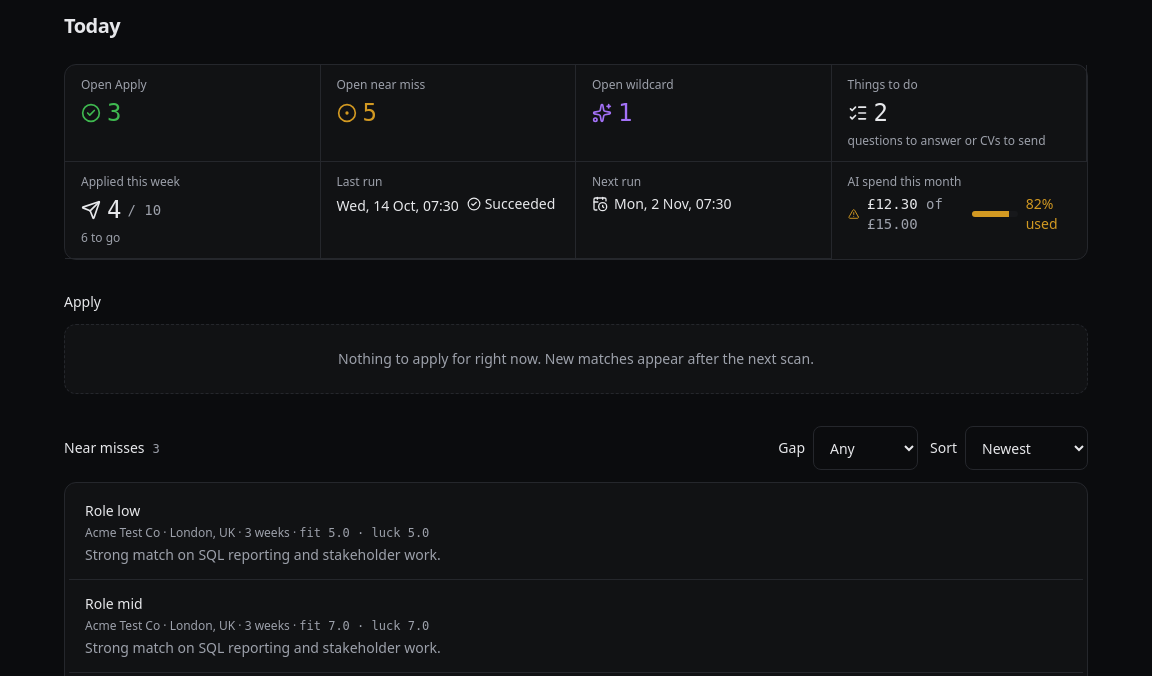
Test: sorting and the gap filter › says so when the gap filter leaves nothing
This screenshot has width=1152, height=676.
Select "Tool" in the dropdown named "Gap Near misses" at {"x": 866, "y": 448}, box [813,426,918,470]
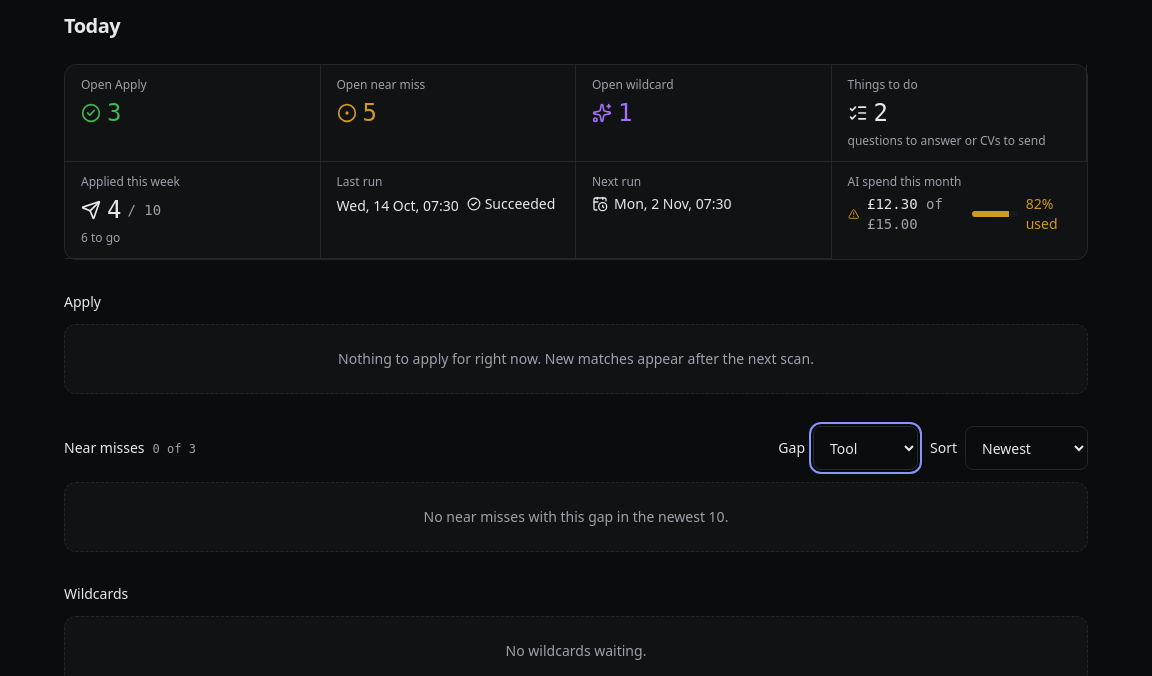
Now the text "No near misses with this gap in the newest 10." is shown, box [64,482,1088,552]
